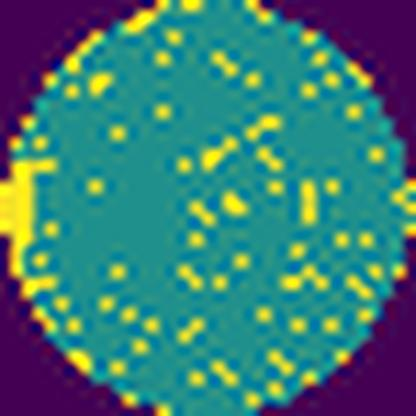Edge-Loc: (0, 154, 68, 304)
